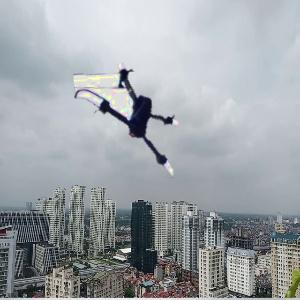drone: (77, 63, 199, 185)
